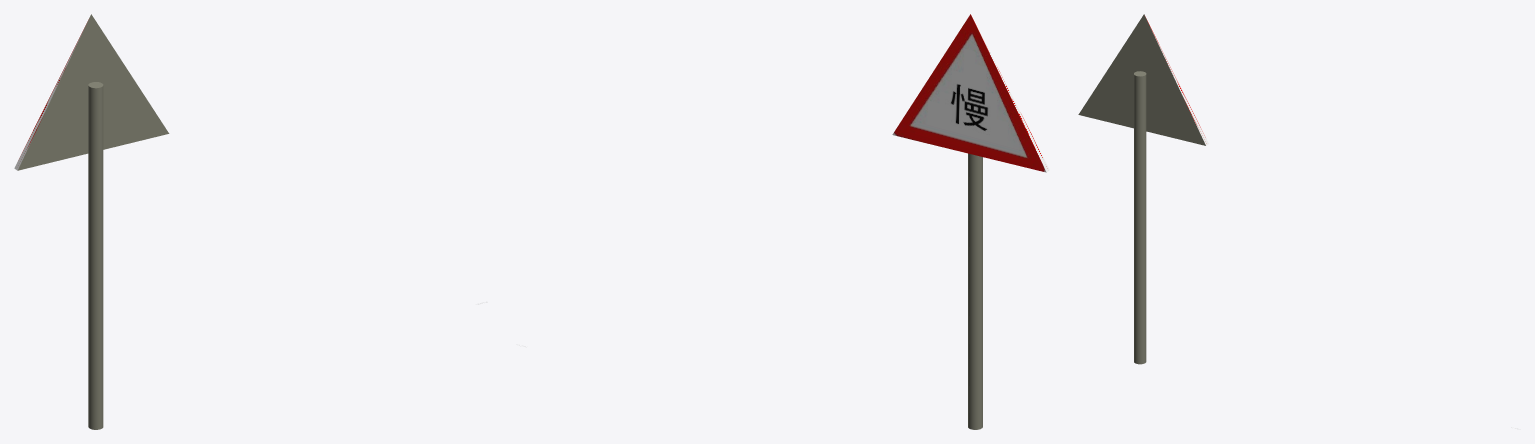
The model's file is 慢行交通標誌.FBX.
3 renders of one model, left to right at view 1: azimuth 30°, elevation 25°; view 2: azimuth 150°, elevation 25°; view 3: azimuth 330°, elevation 25°, orthographic. The views are drawn at different scales.
Visible parts, largest first — view 1: Pyramid001, Cylinder001; view 2: Pyramid001, Cylinder001; view 3: Pyramid001, Cylinder001.
Boxes of the visible parts, x1=… form: Pyramid001: x1=14, y1=14, x2=169, y2=170; Cylinder001: x1=88, y1=82, x2=103, y2=429; Pyramid001: x1=892, y1=14, x2=1049, y2=172; Cylinder001: x1=968, y1=153, x2=982, y2=429; Pyramid001: x1=1078, y1=14, x2=1208, y2=145; Cylinder001: x1=1134, y1=71, x2=1146, y2=364.
Bounding box in the file's own units: 3809 × 2995 × 457.
Materials: 3 (1 with a texture image).
